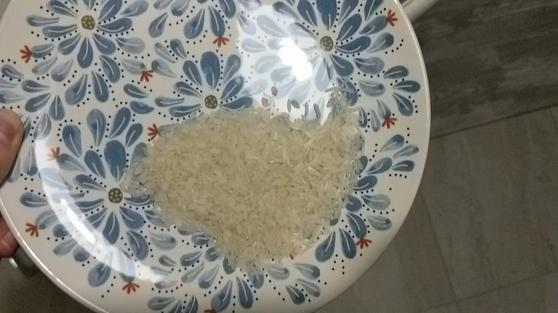rice: (131, 91, 371, 271)
